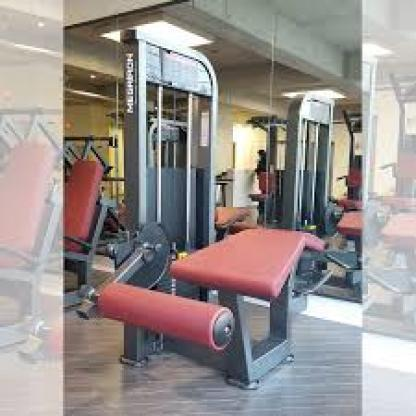reg curl machine: (68, 29, 337, 394)
